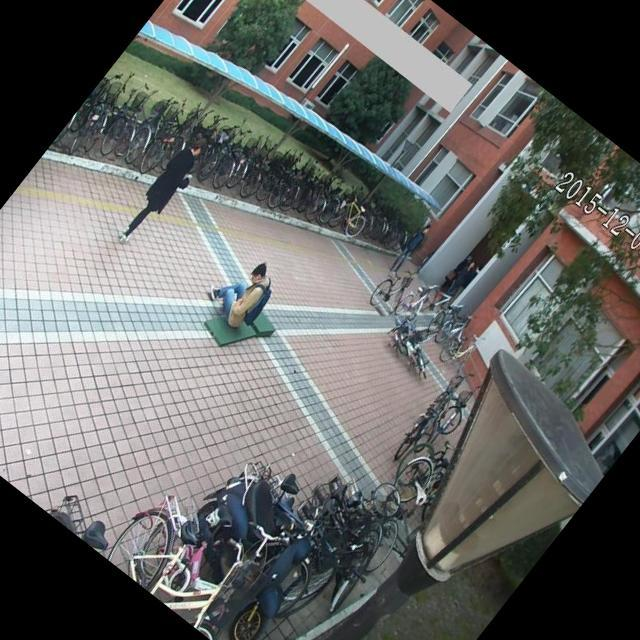person: (106, 126, 218, 258), (198, 236, 294, 339), (382, 214, 438, 280), (443, 253, 484, 299)
